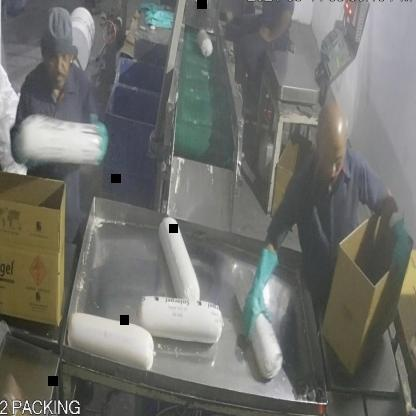glove: (236, 235, 280, 344), (384, 204, 412, 288)
no_glove: (256, 5, 302, 52)
